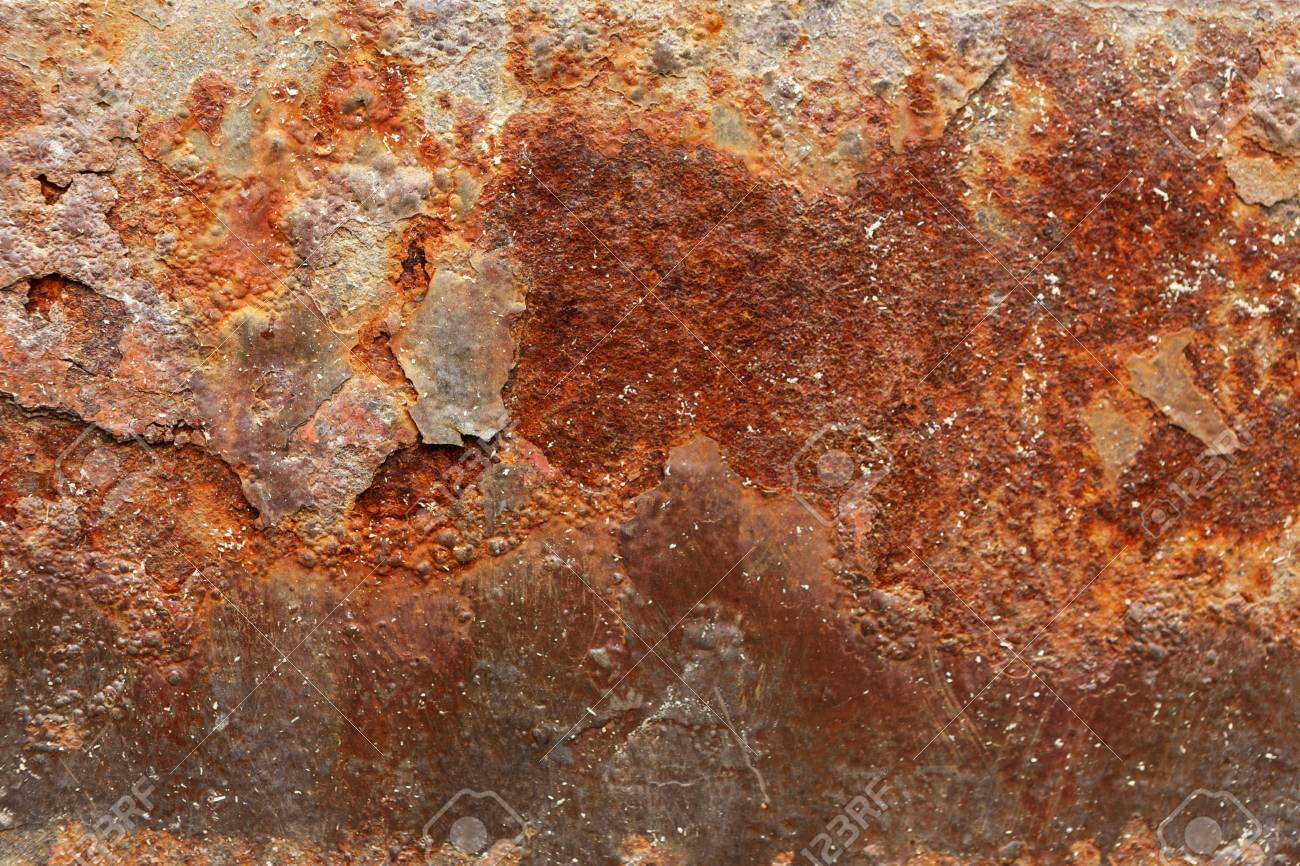rust: (490, 140, 1288, 543), (148, 452, 475, 575), (287, 71, 432, 149)
